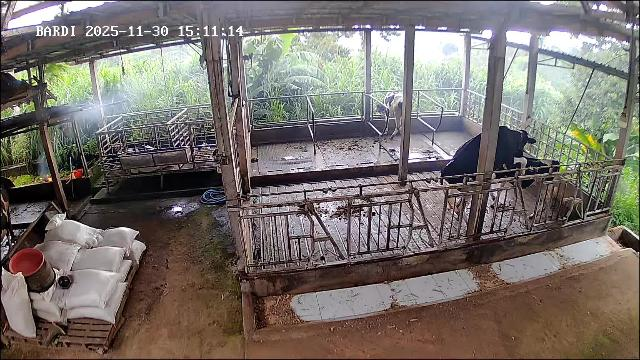mounting: (440, 124, 536, 220)
